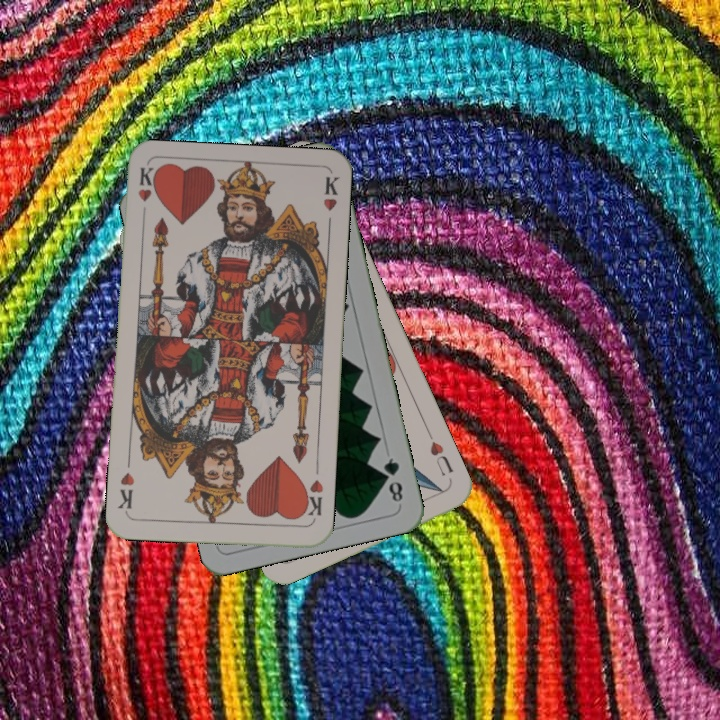G8: (379, 453, 406, 505)
HK: (134, 164, 157, 224), (298, 476, 326, 519)
HU: (425, 437, 456, 479)
